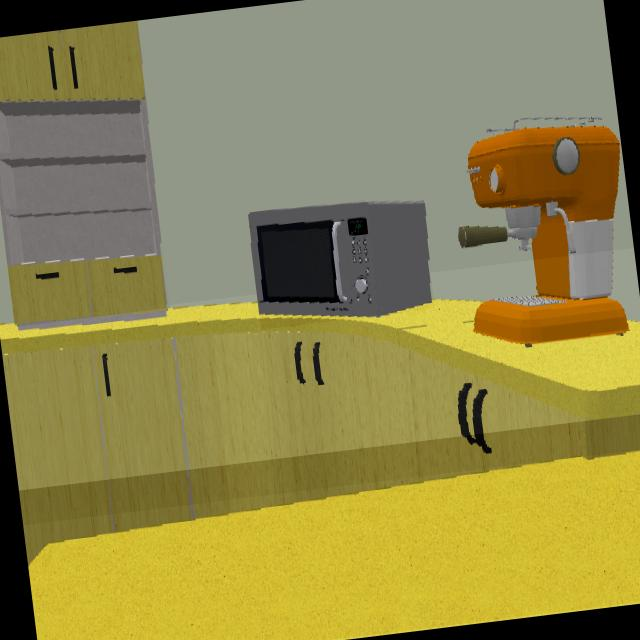cabinet: (2, 327, 640, 560), (0, 21, 165, 323)
countertop: (28, 452, 640, 640), (0, 299, 640, 421)
microwave: (249, 202, 432, 315)
